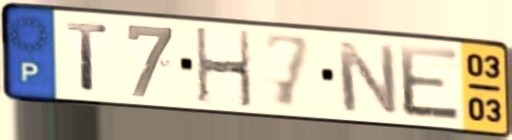7: (261, 30, 315, 112), (124, 22, 177, 100)
E: (396, 43, 465, 124)
H: (192, 25, 256, 111)
N: (334, 39, 403, 118)
T: (64, 19, 112, 95)
